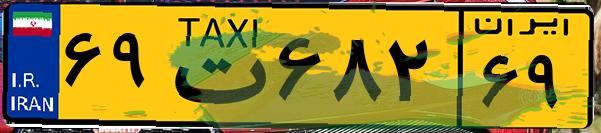2: (385, 28, 445, 110)
6: (270, 28, 330, 110), (57, 26, 110, 100), (475, 38, 525, 113)
8: (330, 28, 385, 110)
9: (525, 38, 570, 115), (110, 28, 158, 98)
ت: (158, 12, 270, 120)
